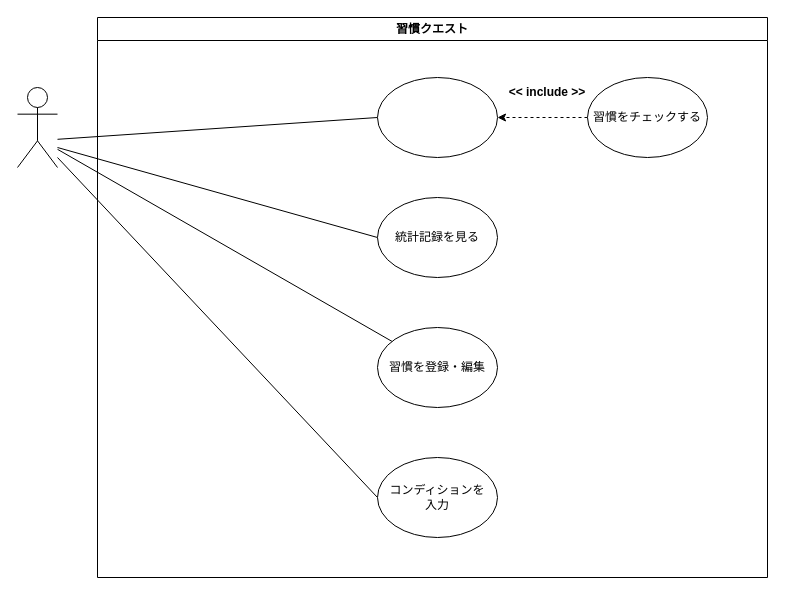
The diagram is 785 pixels wide and 595 high, and some of its shapes have lost their labels. Each missing label, with the box of its shape:
Actor: (16, 86, 58, 168)
振り返りを チェックする: (376, 76, 498, 158)
